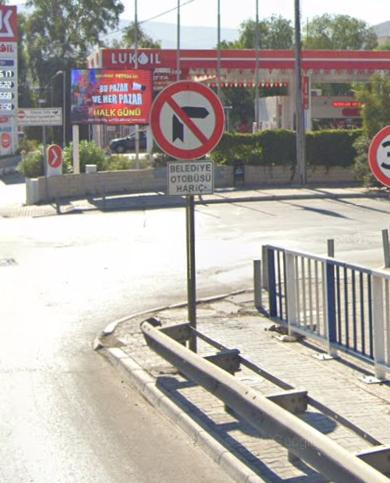rightturnsareforbidden: (150, 80, 226, 158)
